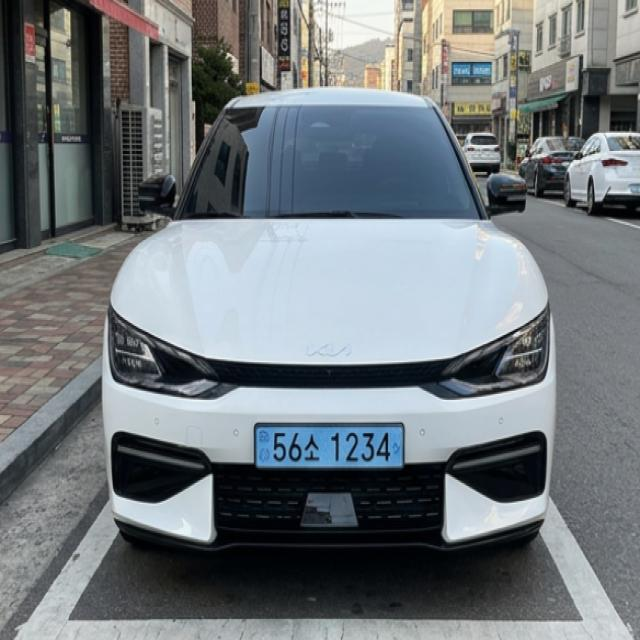car: (236, 408, 422, 486)
carev: (254, 425, 272, 465), (388, 429, 405, 468)
